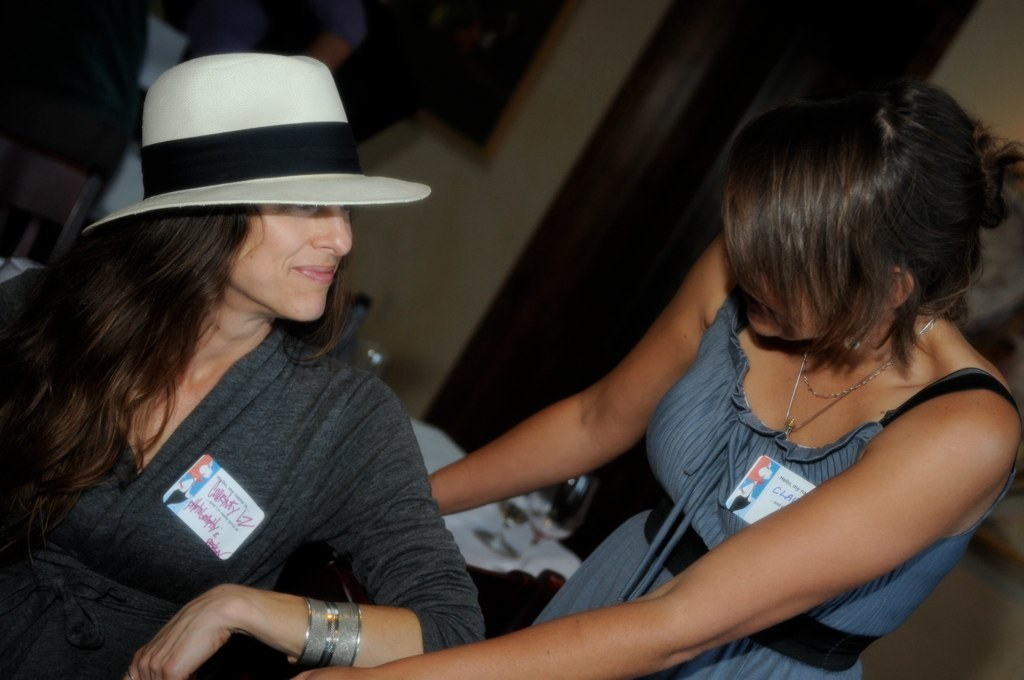Human_hand: (162, 571, 321, 672), (291, 669, 315, 679)
